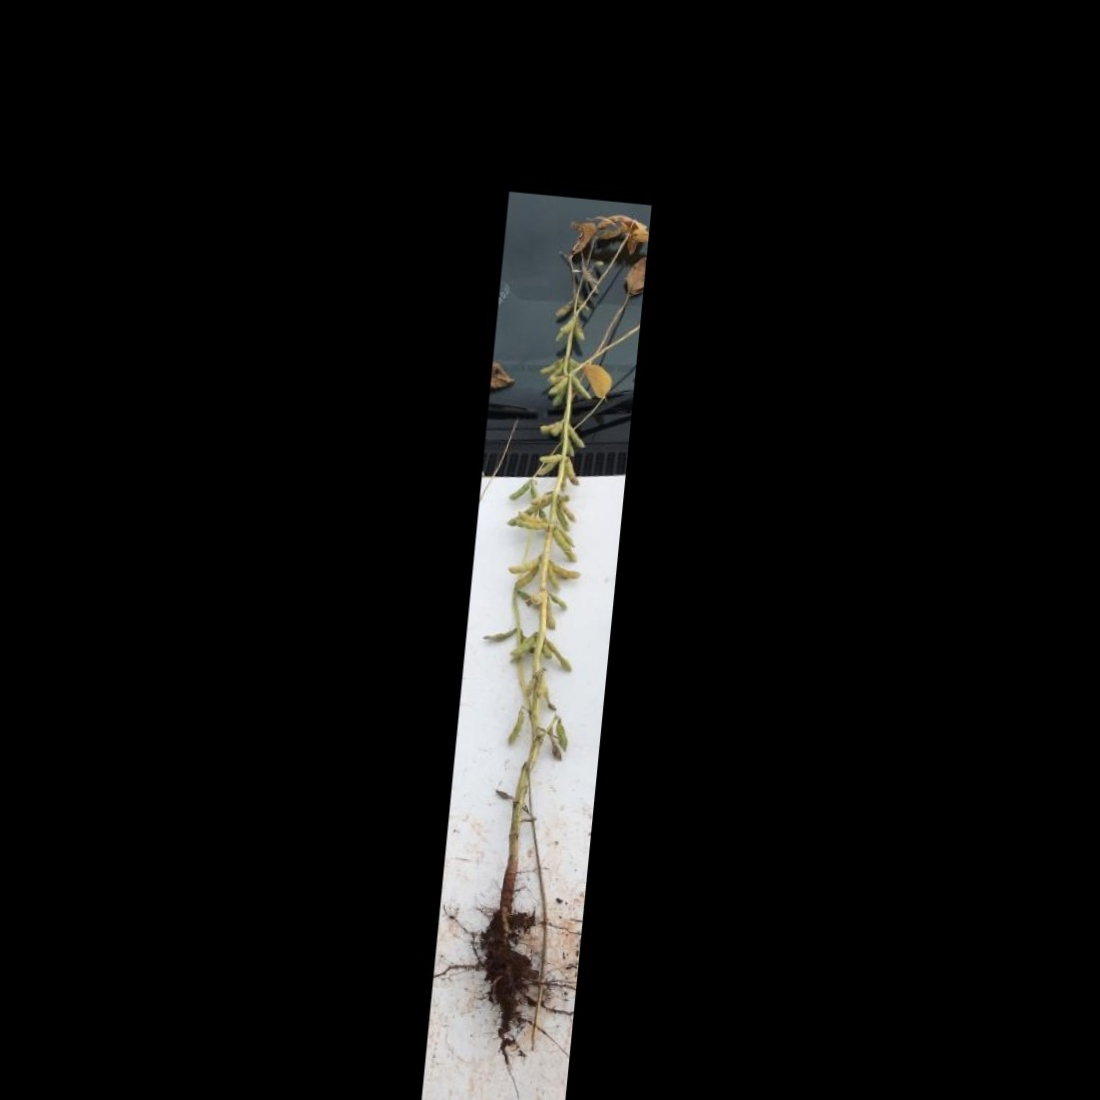pod: (502, 703, 531, 751), (510, 563, 541, 593), (479, 622, 517, 647), (552, 720, 580, 753), (567, 375, 597, 404), (561, 457, 586, 488), (505, 477, 530, 503), (564, 424, 588, 449), (552, 294, 574, 320), (543, 603, 561, 631), (546, 592, 571, 609), (544, 565, 560, 590), (537, 450, 563, 465)
soy: (428, 217, 640, 1069)
